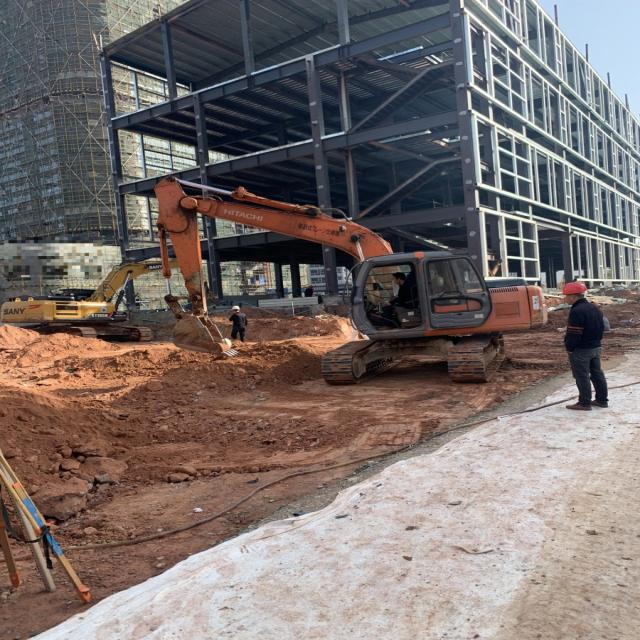excavator: (153, 175, 547, 383), (0, 260, 214, 342)
